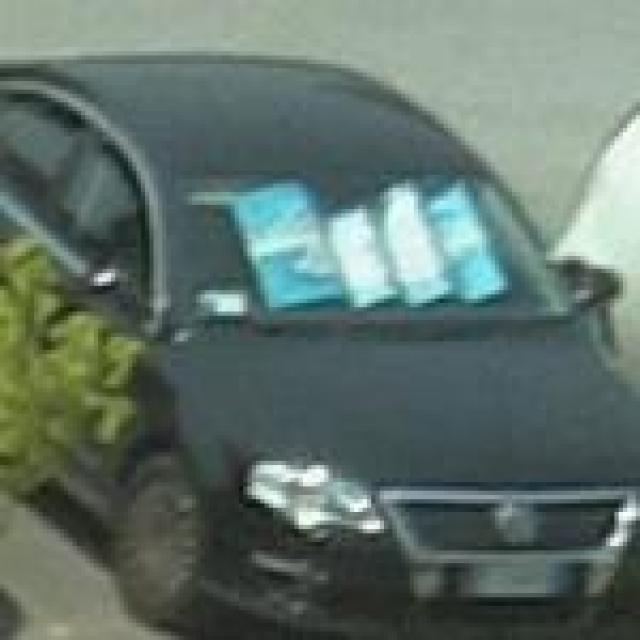cars-sUYr: (0, 43, 640, 639)
